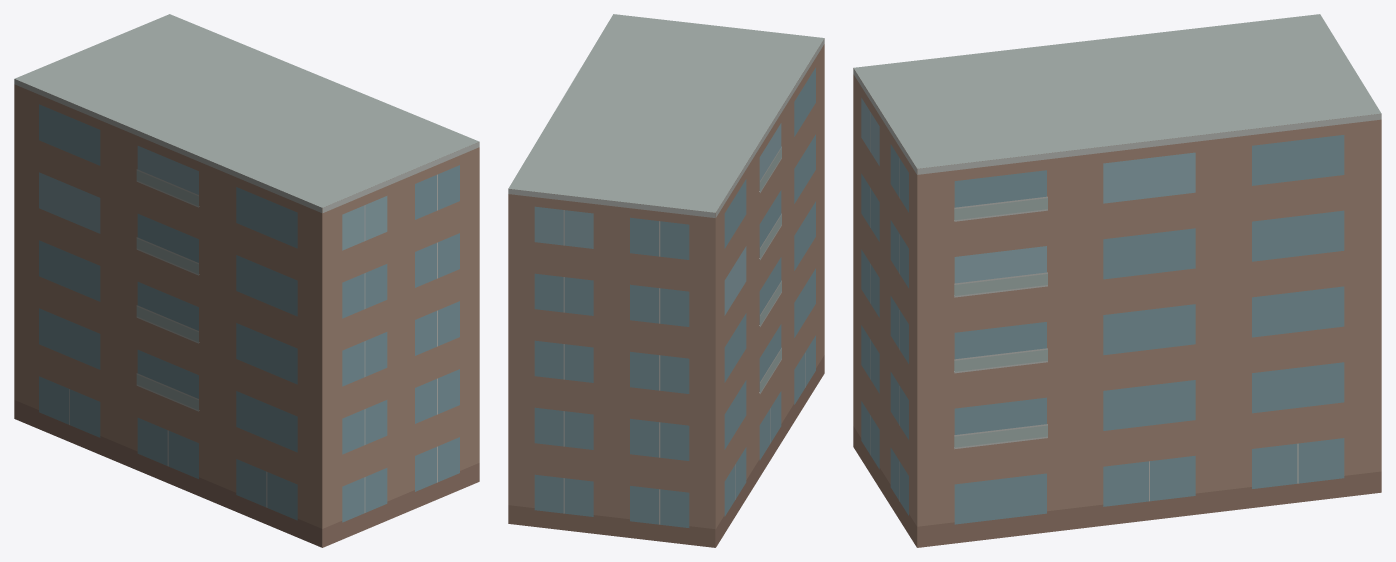
Rendered from survey-upis-32959856.glb.
The picture shows the model from 3 angles, left to right: view 1: azimuth 30°, elevation 25°; view 2: azimuth 150°, elevation 25°; view 3: azimuth 270°, elevation 25°; orthographic projection. The views are drawn at different scales.
Visible parts, largest first — view 1: survey-upis-32959856.tmp; view 2: survey-upis-32959856.tmp; view 3: survey-upis-32959856.tmp.
Boxes of the visible parts, x1,y1,x2,y2 form: survey-upis-32959856.tmp: (14,14,479,547); survey-upis-32959856.tmp: (508,14,824,547); survey-upis-32959856.tmp: (853,14,1381,547).
Size of the model in its own units: 13.37 by 15.25 by 19.27.
